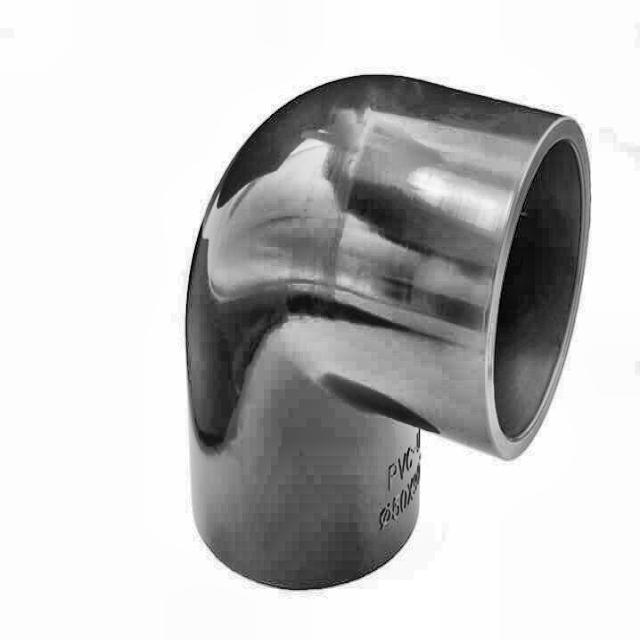ELBOW90: (183, 74, 594, 594)
